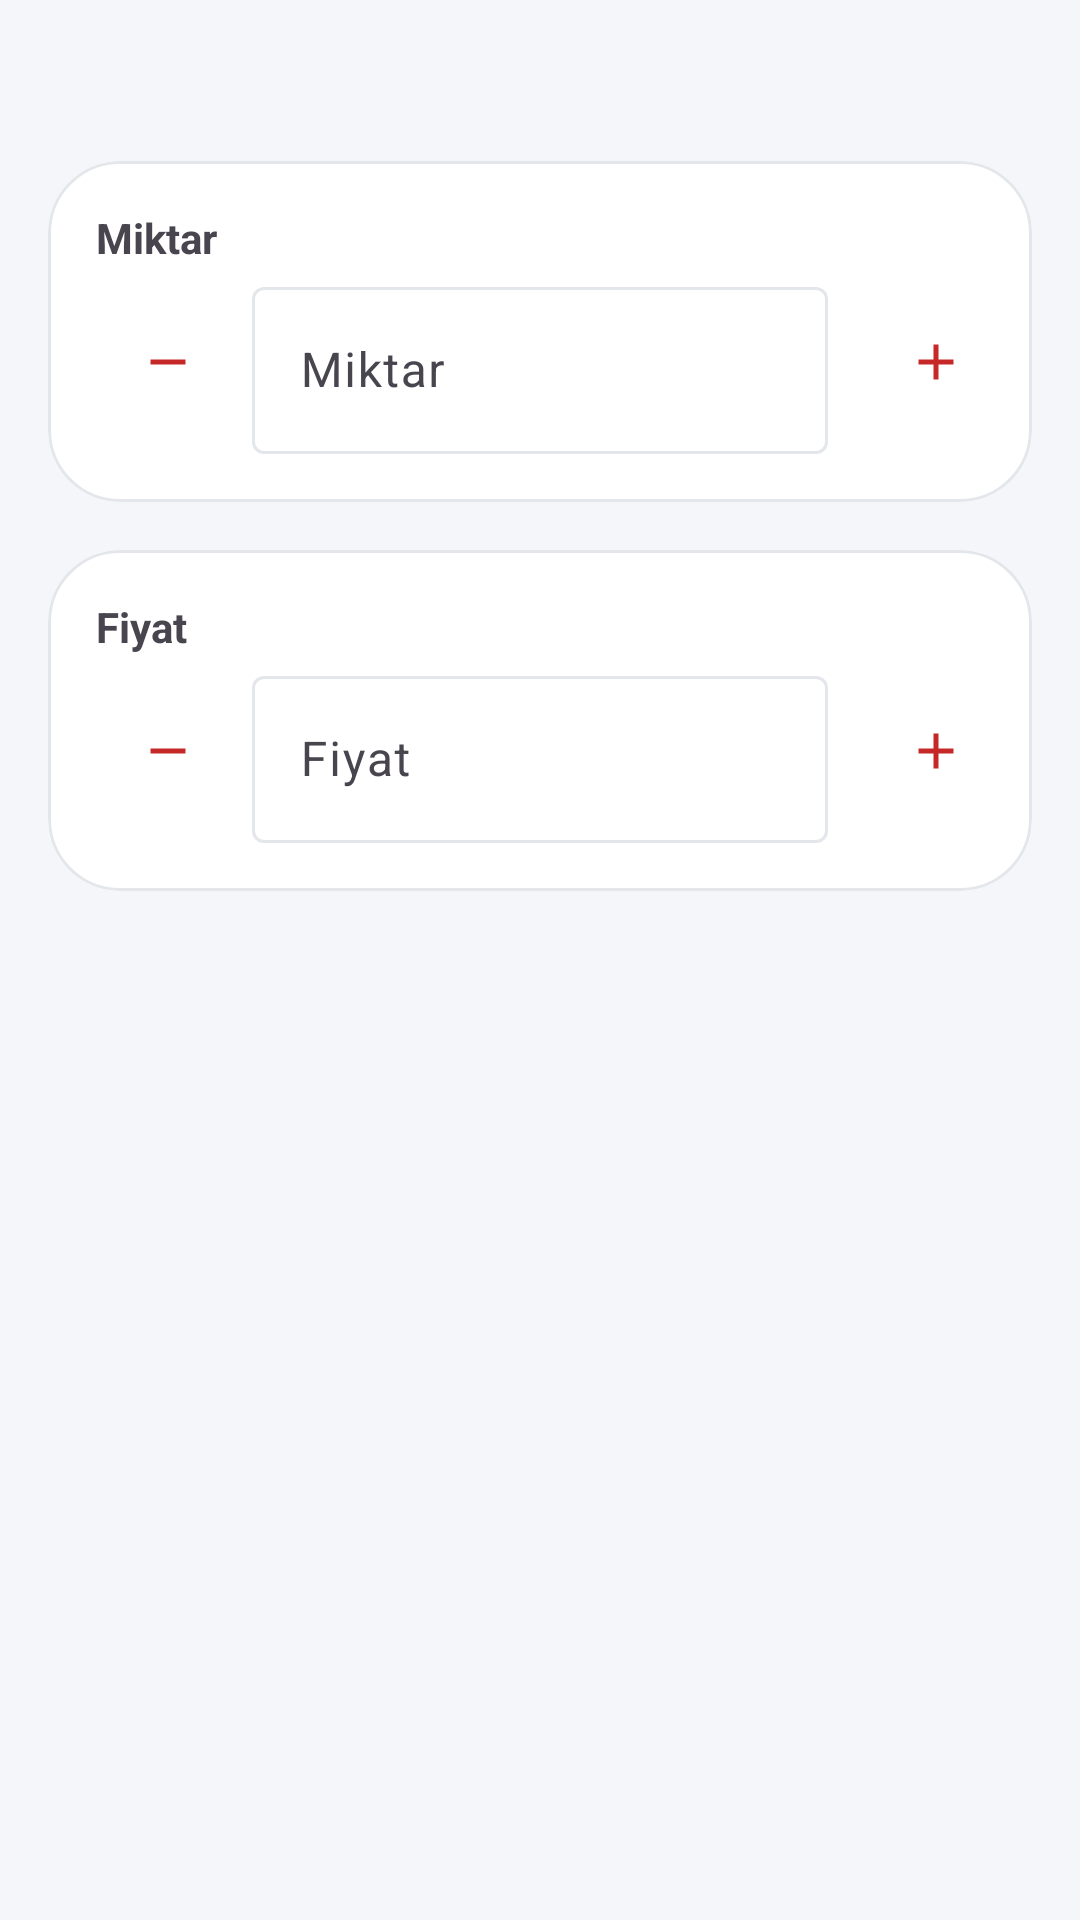

Icons on this 1080*1920 Android screen, each with the point to tap as [x,y]:
minus: [168,362], [168,751]
plus: [936,362], [936,751]
